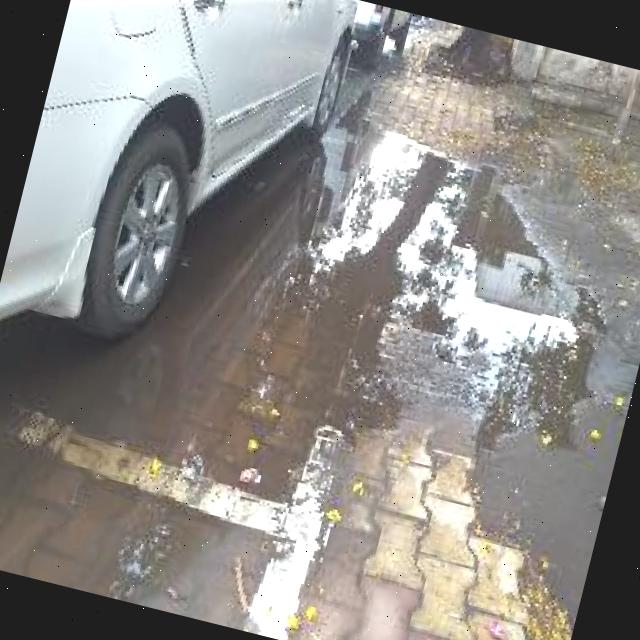stagnation: (202, 92, 623, 511)
